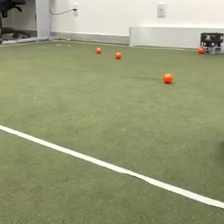ball: (163, 72, 173, 84), (94, 46, 103, 55), (114, 51, 122, 59), (197, 46, 205, 54)
goal: (127, 23, 224, 51)
robot: (199, 30, 224, 56)
